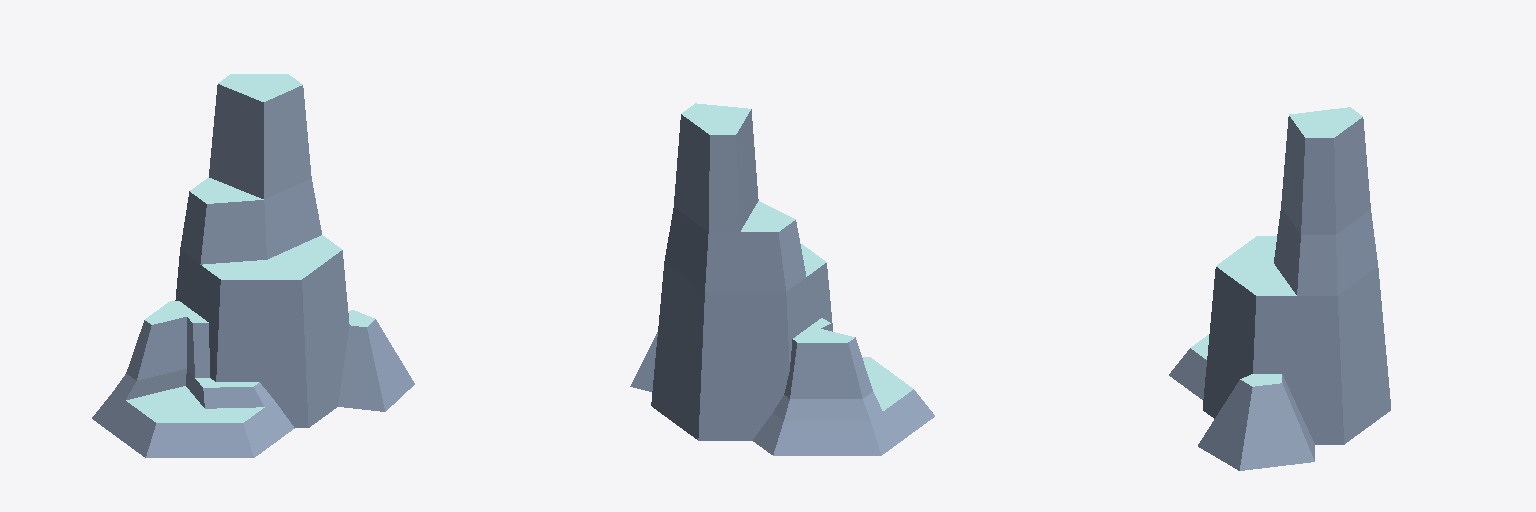
File: rockFormationLarge.obj
3 renders of one model, left to right at view 1: azimuth 30°, elevation 25°; view 2: azimuth 150°, elevation 25°; view 3: azimuth 270°, elevation 25°, orthographic.
Parts seen in each view (by area): view 1: rockFormationLarge; view 2: rockFormationLarge; view 3: rockFormationLarge.
Part boxes in pixels (x1,y1,x2,y2): rockFormationLarge: (92,74,414,457); rockFormationLarge: (630,103,934,455); rockFormationLarge: (1169,107,1390,470).
Bounding box in the file's own units: 0.9231 × 0.9352 × 0.6416.